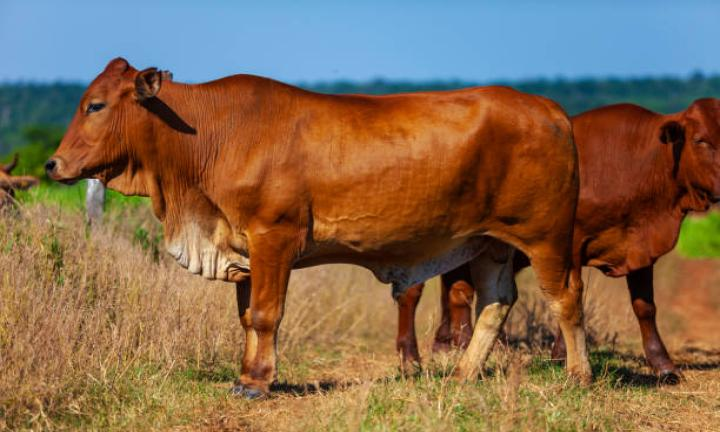Brahman: (46, 58, 589, 397), (572, 97, 719, 380), (433, 264, 472, 349), (396, 284, 421, 361)
